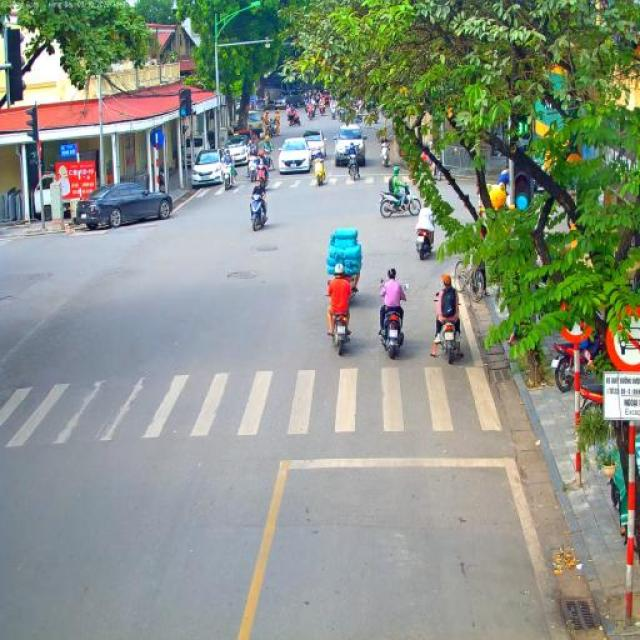car: (75, 180, 174, 230), (333, 120, 367, 168), (278, 136, 312, 174), (220, 128, 252, 168), (191, 149, 224, 187), (302, 129, 327, 161), (271, 89, 304, 109)
motorcycle: (551, 342, 601, 392), (379, 280, 409, 360), (432, 290, 462, 364), (379, 185, 421, 217), (328, 302, 352, 356), (250, 194, 268, 232), (416, 227, 434, 261), (220, 161, 236, 191), (346, 154, 360, 181), (314, 155, 326, 186), (245, 155, 259, 179), (256, 163, 266, 187), (288, 109, 302, 126), (262, 150, 273, 170), (380, 145, 390, 167), (266, 121, 276, 137), (355, 110, 365, 122), (307, 105, 314, 120), (319, 102, 326, 117), (371, 110, 378, 124), (332, 104, 338, 118)
truck: (246, 111, 263, 137)
